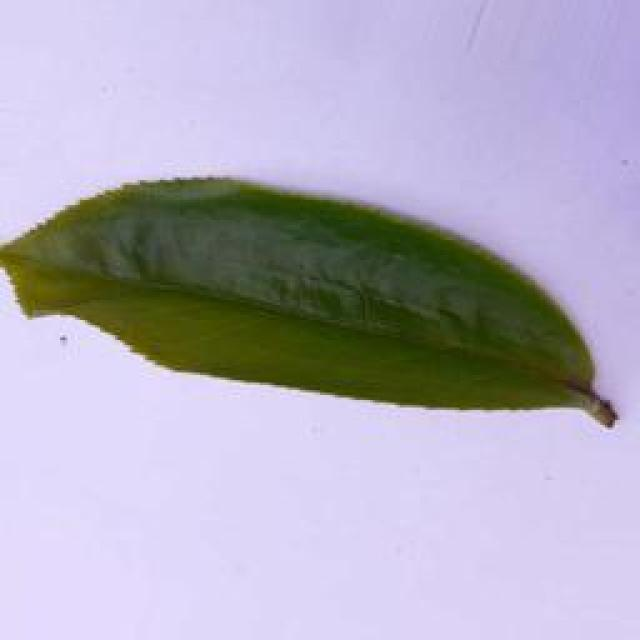Healthy: (0, 174, 613, 432)
